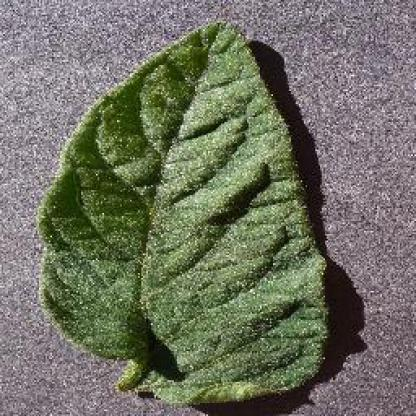good leaf: (67, 43, 253, 344)
